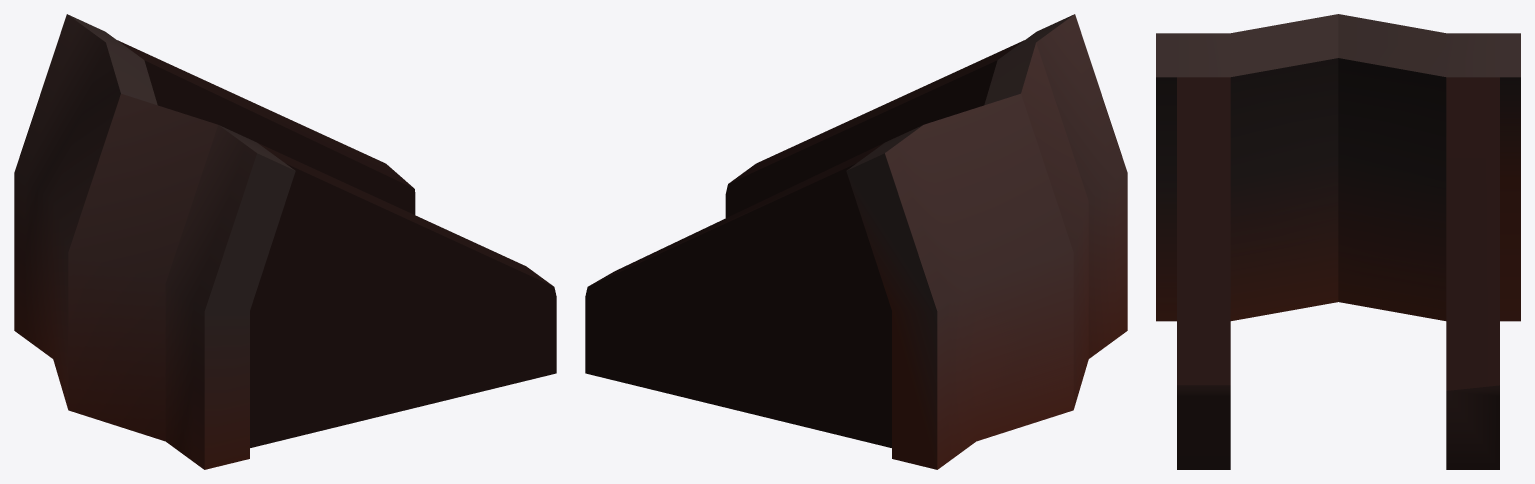
File: pullingStructMisc02.fbx
3 views of the same model, side by side, from view 1: azimuth 30°, elevation 25°; view 2: azimuth 150°, elevation 25°; view 3: azimuth 270°, elevation 25° (orthographic). The views are drawn at different scales.
Visible parts, largest first — view 1: polySurface137; view 2: polySurface137; view 3: polySurface137.
Part boxes in pixels (box(x1,y1,x2,y2)): polySurface137: box(14, 14, 556, 469); polySurface137: box(585, 14, 1127, 469); polySurface137: box(1156, 14, 1520, 469).
Bounding box in the file's own units: 7.98 × 5.73 × 6.51.
